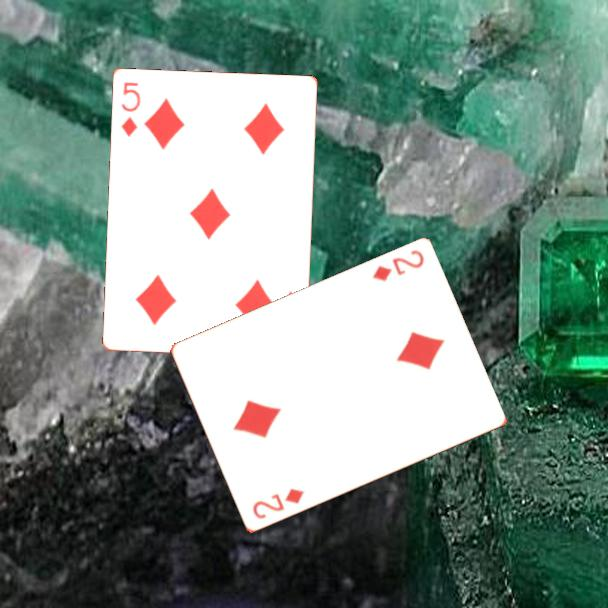d02: (369, 247, 427, 285), (249, 485, 307, 522)
d05: (118, 79, 143, 140)
